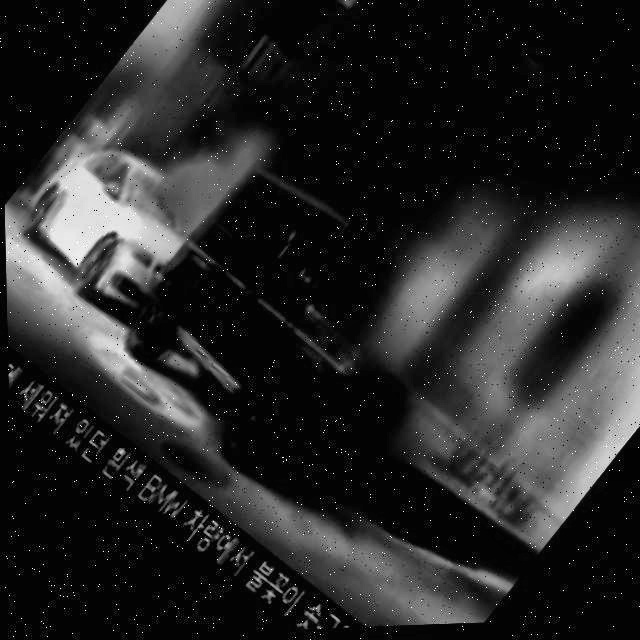Fire: (148, 153, 233, 242)
